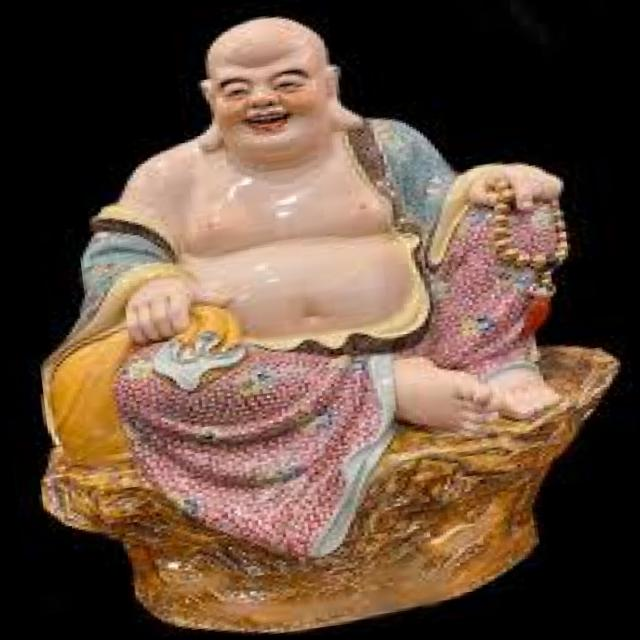Smiling Buddha: (63, 0, 575, 488)
